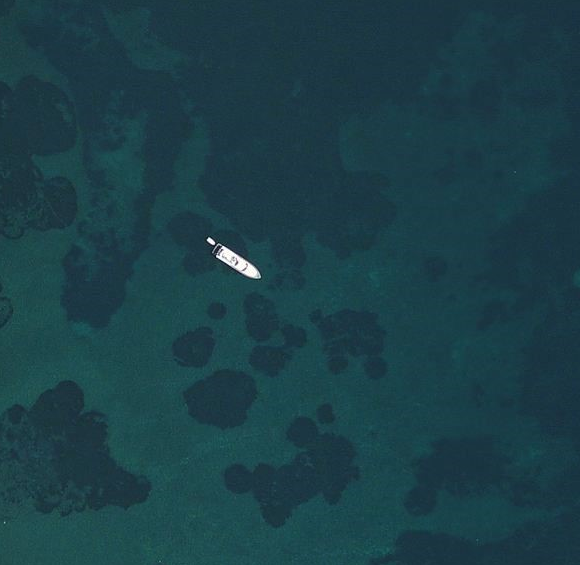ship: (200, 234, 268, 287)
